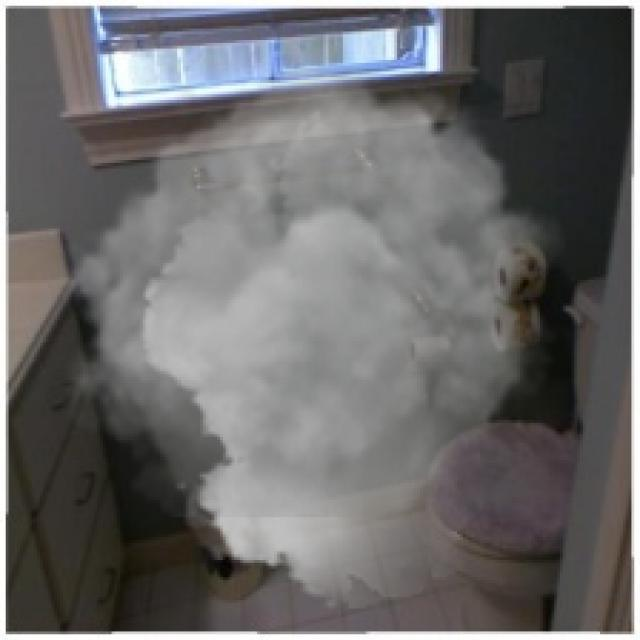Smoke: (46, 69, 566, 608)
